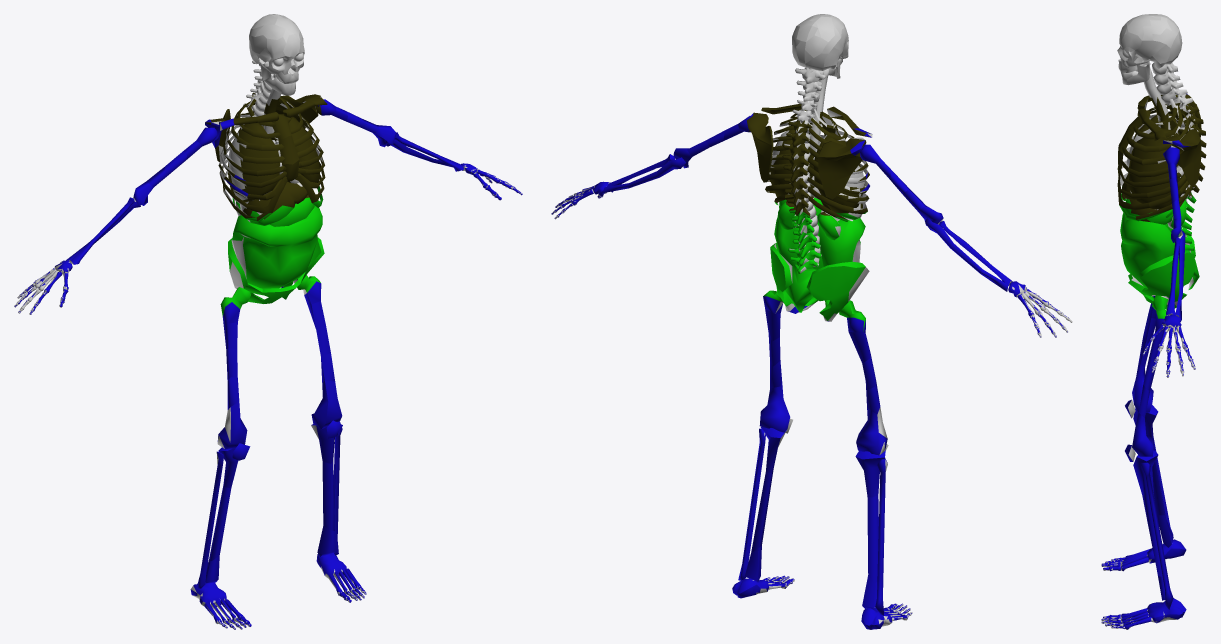
Rendered from skeleton-2.obj.
The picture shows the model from 3 angles, left to right: view 1: azimuth 30°, elevation 25°; view 2: azimuth 150°, elevation 25°; view 3: azimuth 270°, elevation 25°; orthographic projection. The views are drawn at different scales.
Parts seen in each view (by area): view 1: internal_skelout_full; view 2: internal_skelout_full; view 3: internal_skelout_full.
Part boxes in pixels (box(x1,y1,x2,y2)): internal_skelout_full: box(14, 14, 522, 629); internal_skelout_full: box(551, 14, 1072, 629); internal_skelout_full: box(1101, 14, 1206, 629).
Size of the model in its own units: 3.45 by 3.82 by 0.6282.
